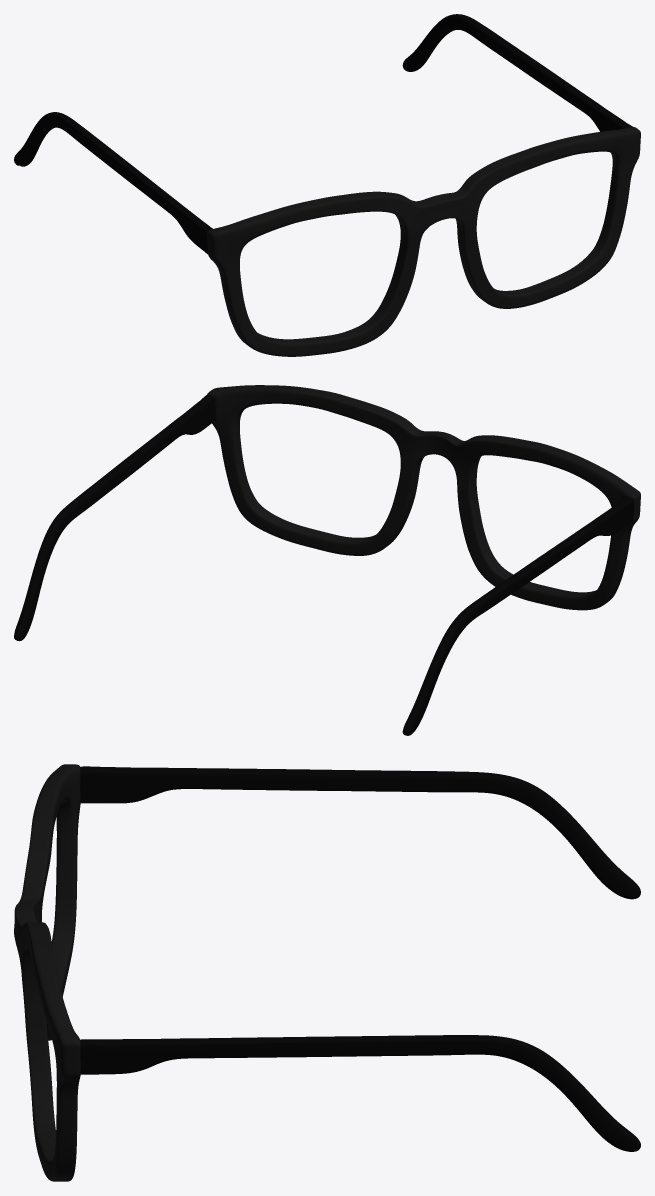
The picture shows the model from 3 angles, top to bottom: view 1: azimuth 30°, elevation 25°; view 2: azimuth 150°, elevation 25°; view 3: azimuth 270°, elevation 25°; orthographic projection. The views are drawn at different scales.
Visible parts, largest first — view 1: Frame_1_5, Handles_2_7; view 2: Frame_1_5, Handles_2_7; view 3: Handles_2_7, Frame_1_5.
Boxes of the visible parts, left/top/right/bottom form: Frame_1_5: left=207, top=127, right=640, bottom=356; Handles_2_7: left=14, top=14, right=632, bottom=254; Frame_1_5: left=207, top=385, right=640, bottom=610; Handles_2_7: left=14, top=394, right=634, bottom=735; Handles_2_7: left=80, top=766, right=640, bottom=1151; Frame_1_5: left=14, top=764, right=80, bottom=1181.
Size of what is drawn, in the model's own units: 2.02 by 0.693 by 1.92.
2 materials, 1 textured.
